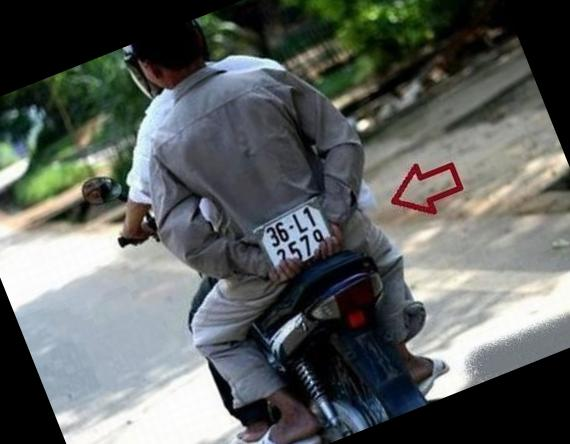plate: (257, 199, 338, 269)
